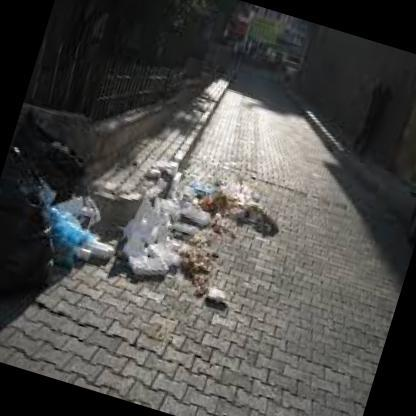Garbage: (212, 187, 280, 250), (27, 209, 96, 270), (181, 222, 228, 306), (180, 162, 240, 223), (250, 212, 292, 247), (184, 250, 221, 282)
